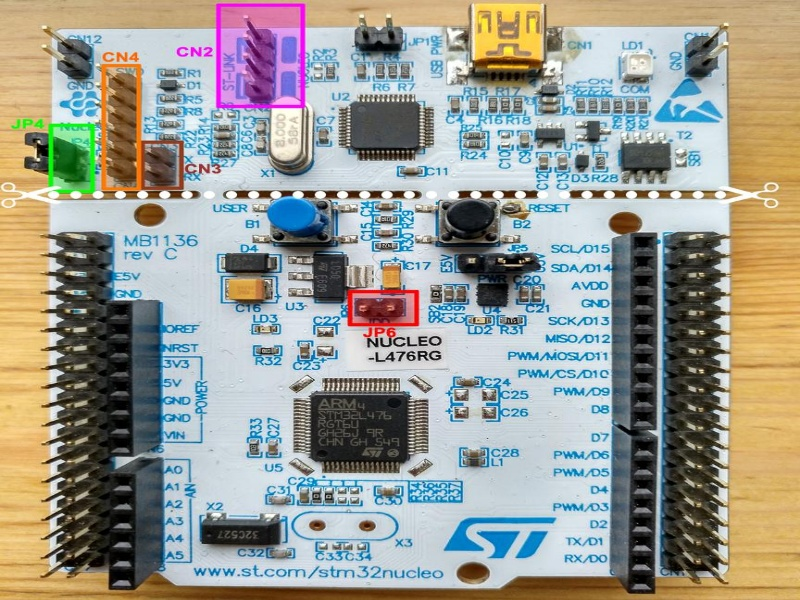stmnucleo: (26, 18, 746, 593)
